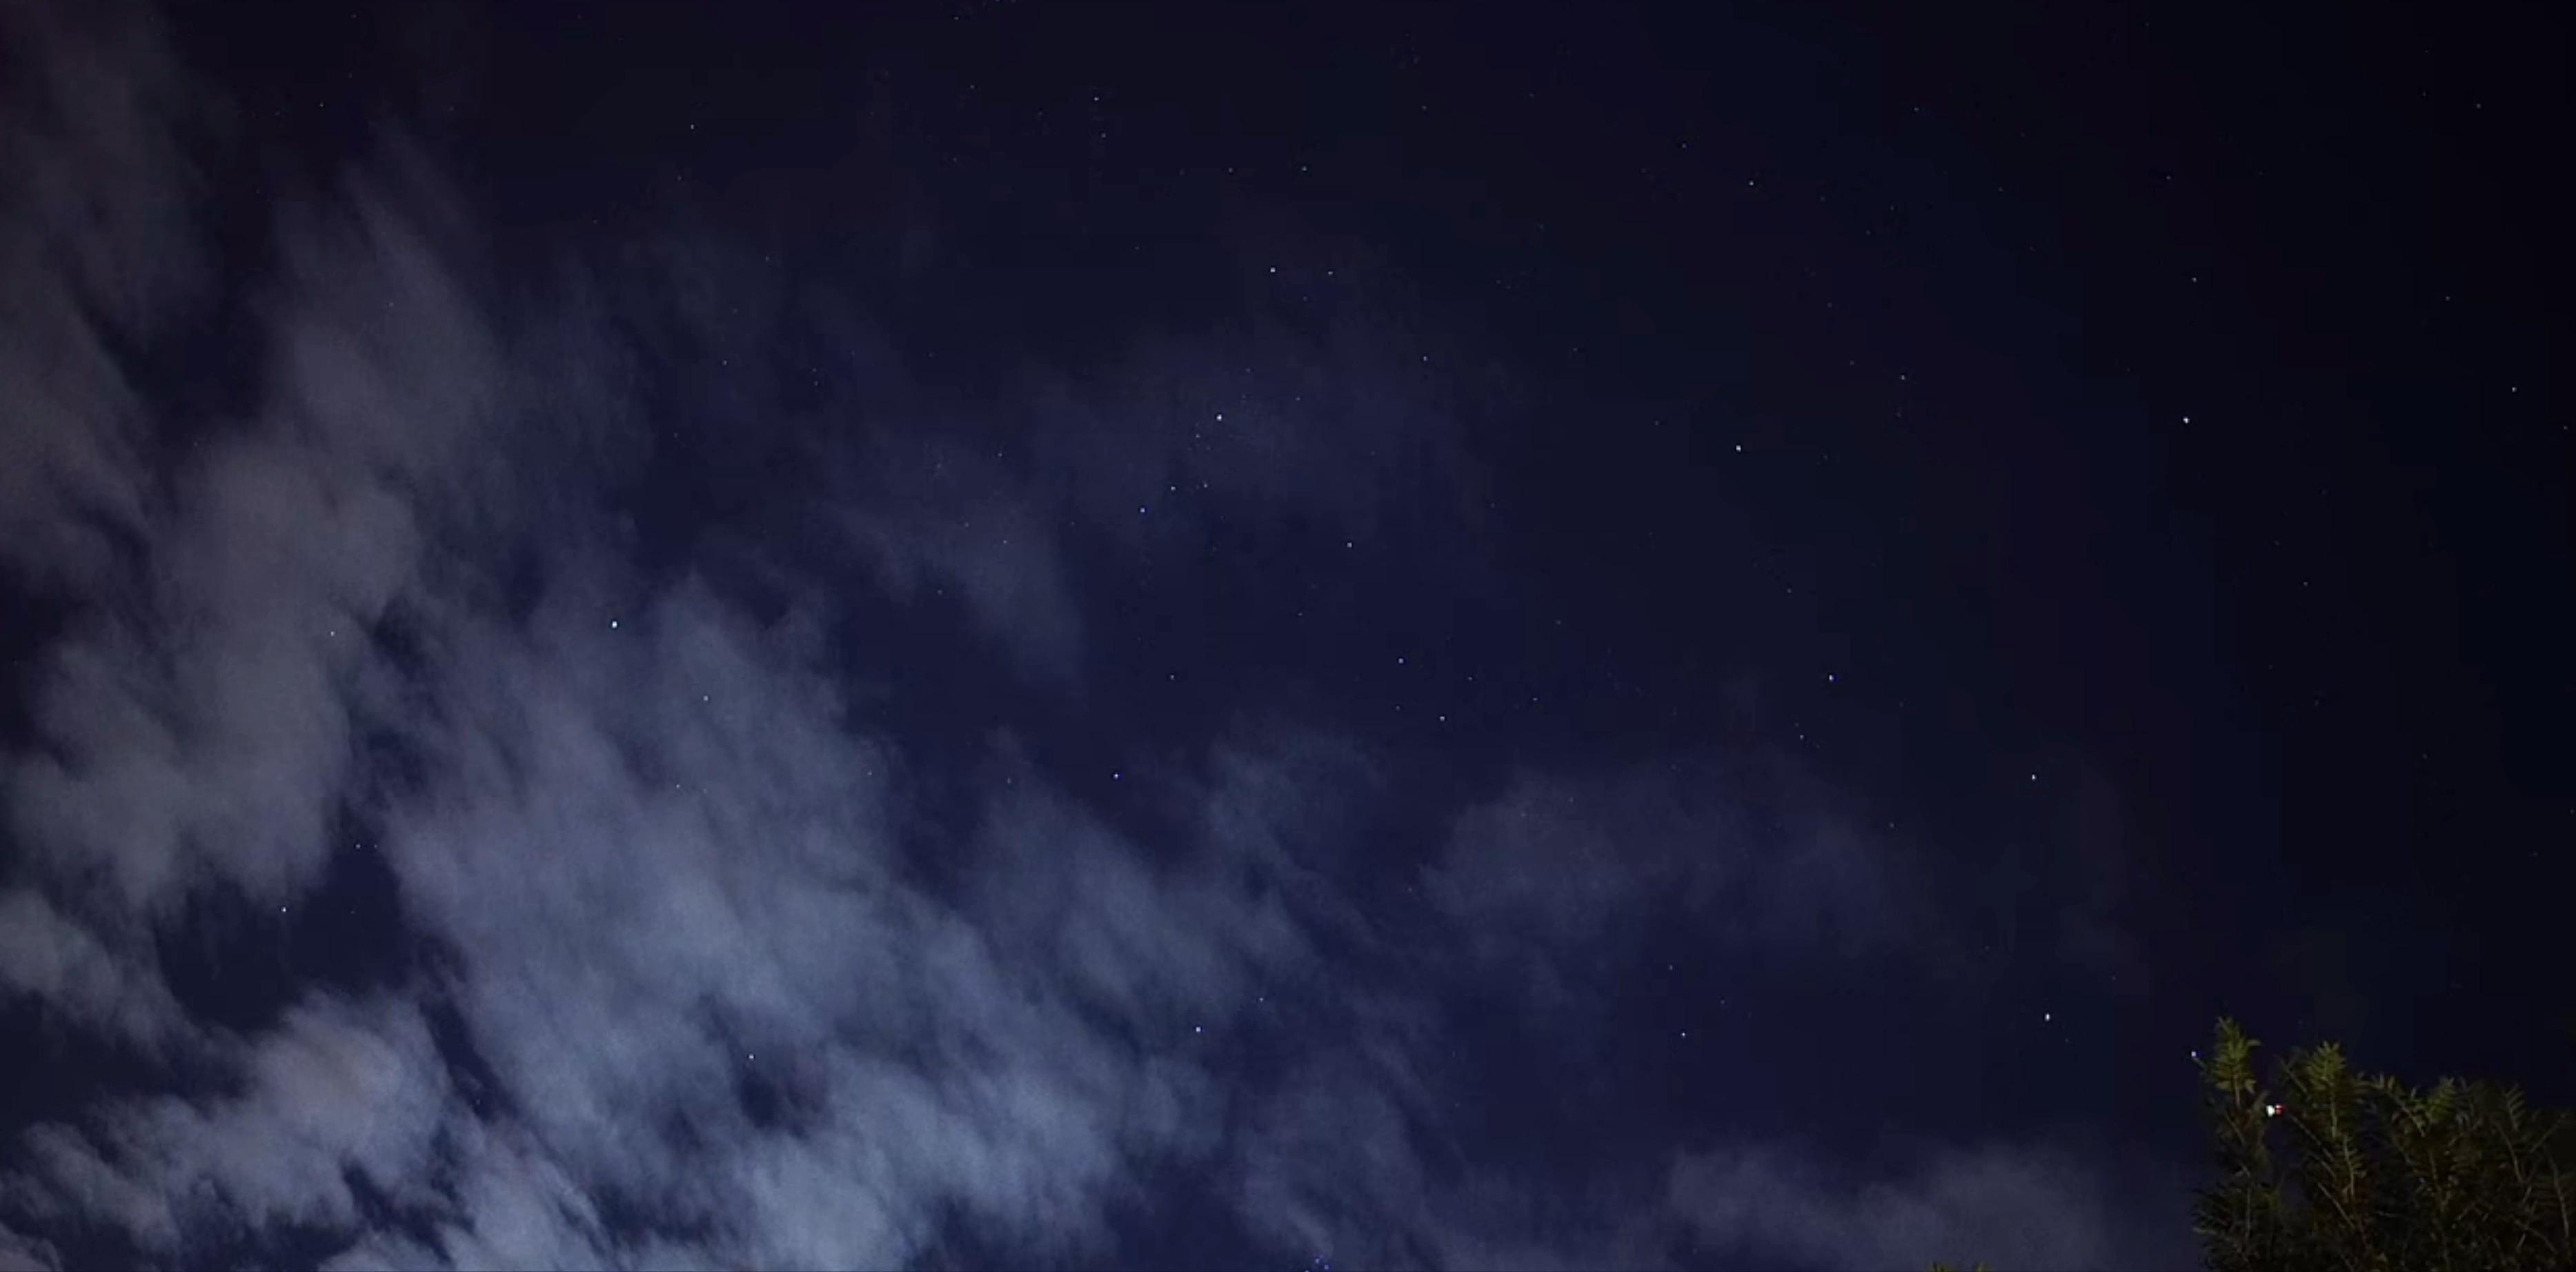Plane: (2256, 1095, 2297, 1127)
